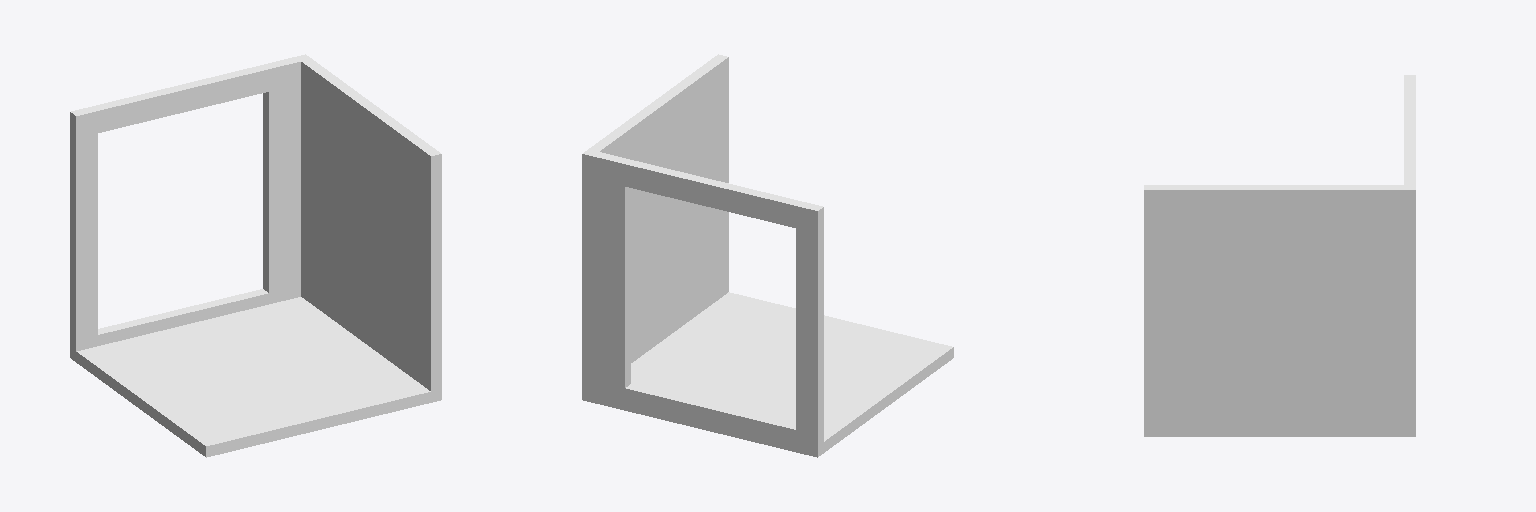
Rendered from mesh_hanger_floor_corner_door.obj.
3 renders of one model, left to right at view 1: azimuth 30°, elevation 25°; view 2: azimuth 150°, elevation 25°; view 3: azimuth 270°, elevation 25°, orthographic.
Visible parts, largest first — view 1: object 1; view 2: object 1; view 3: object 1.
Part boxes in pixels (left/top/right/bottom): object 1: left=70, top=54, right=441, bottom=457; object 1: left=582, top=54, right=953, bottom=457; object 1: left=1144, top=75, right=1415, bottom=436.
Size of the model in its own units: 4.4 by 4.4 by 4.4.